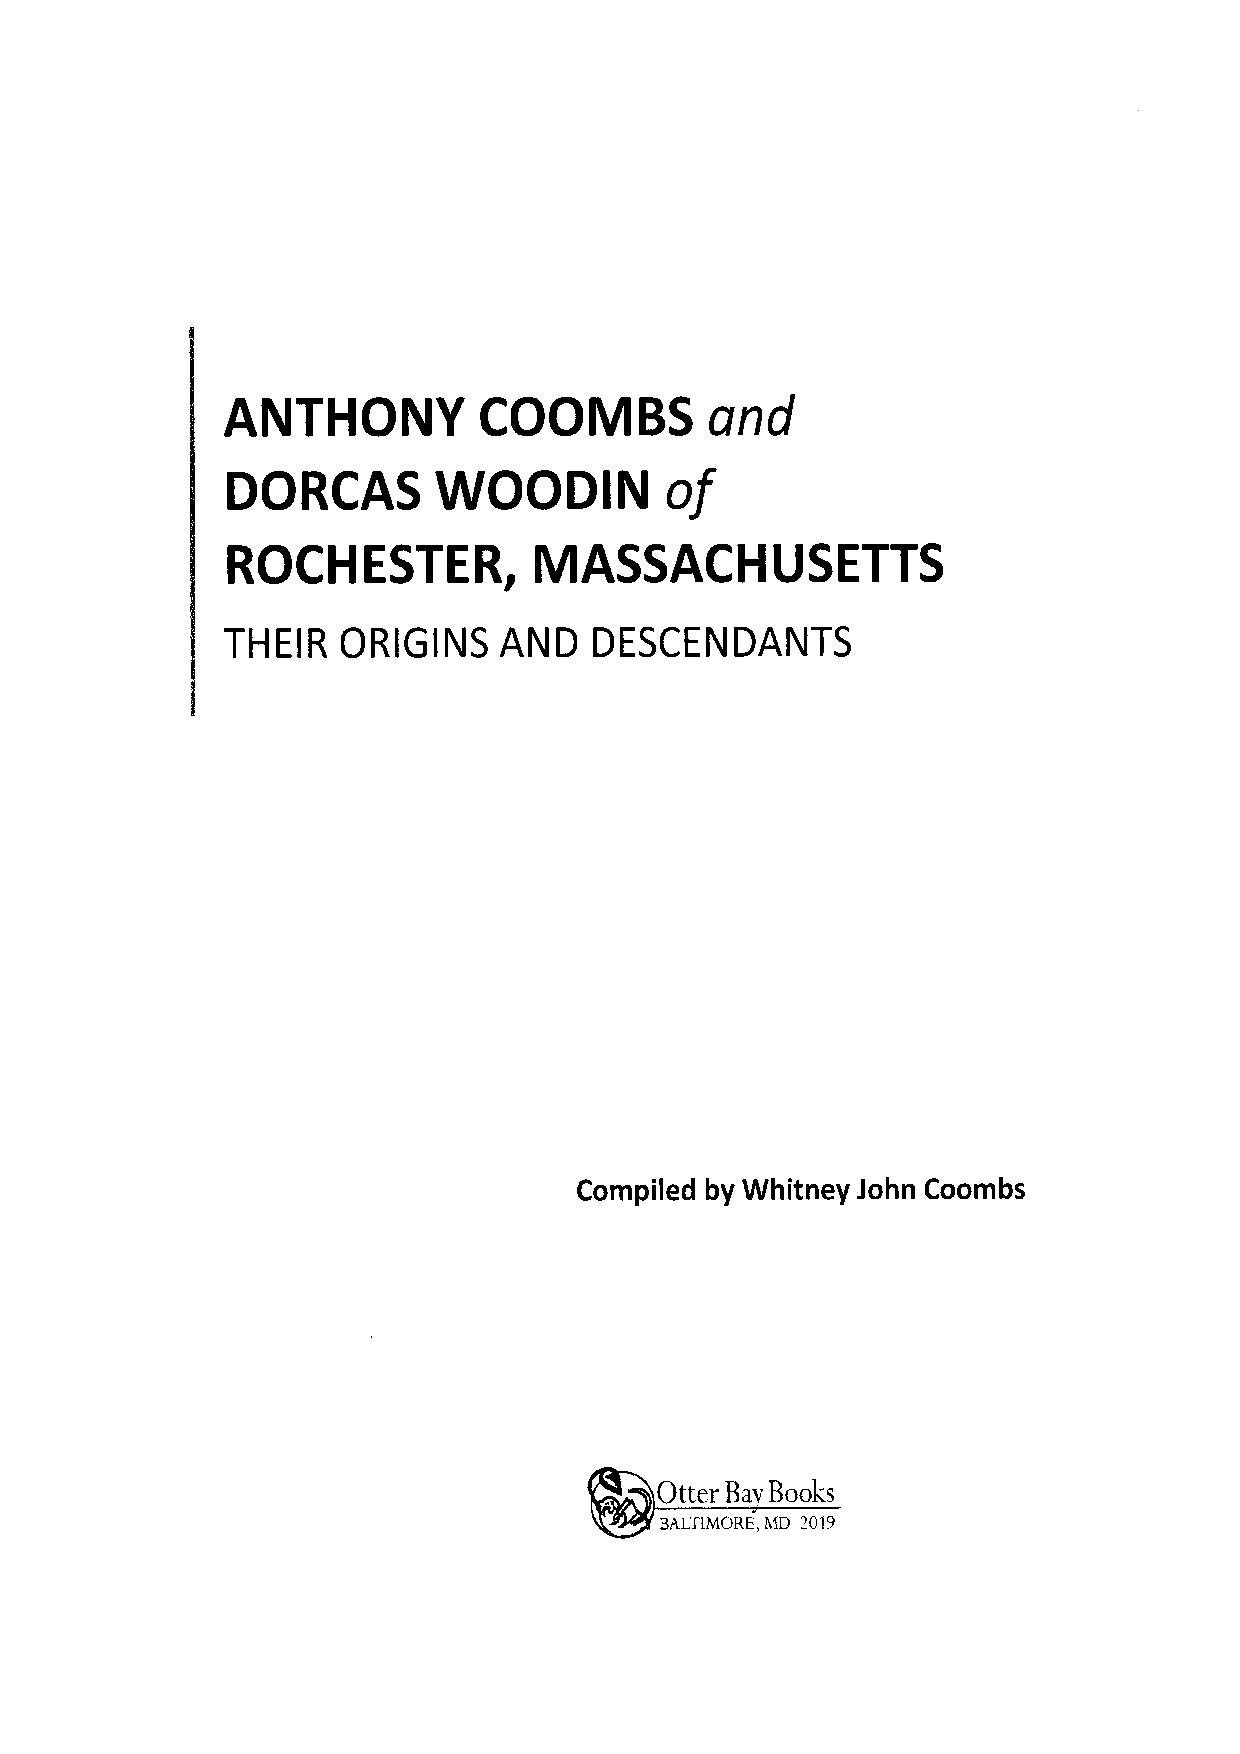author: (568, 1170, 1028, 1209)
title: (219, 393, 946, 662)
